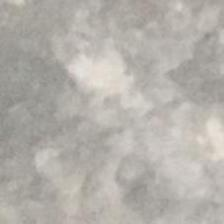Non_Crack: (10, 5, 216, 218)
